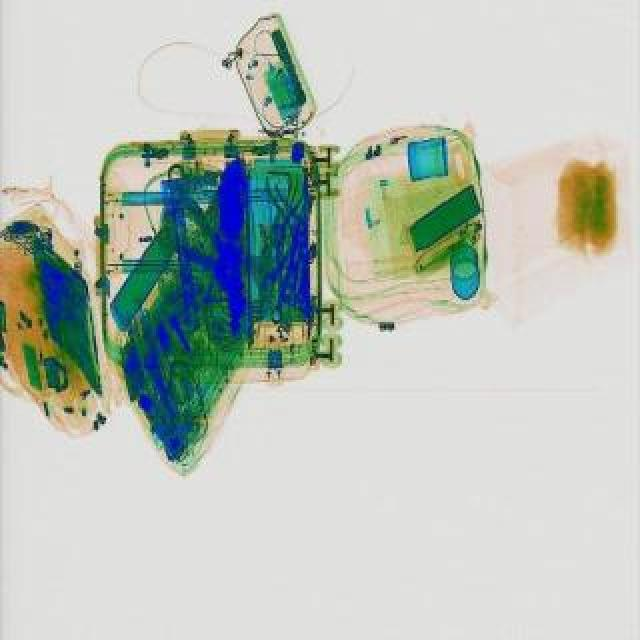wrench: (264, 178, 308, 248)
